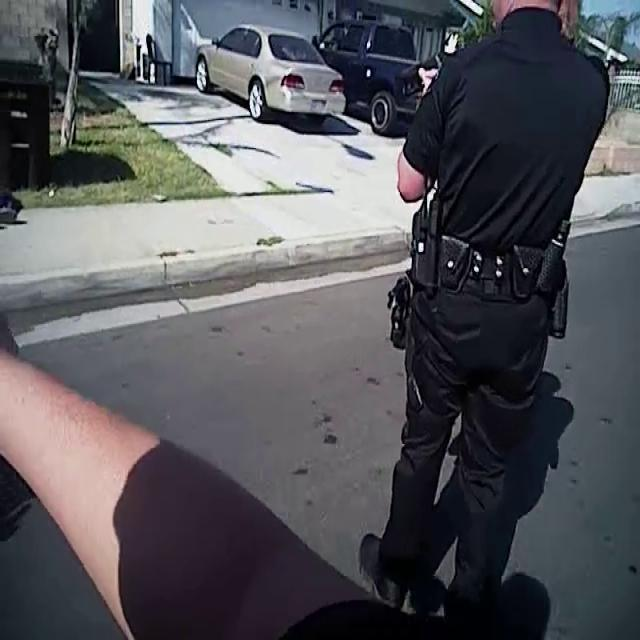gun: (381, 47, 463, 119)
